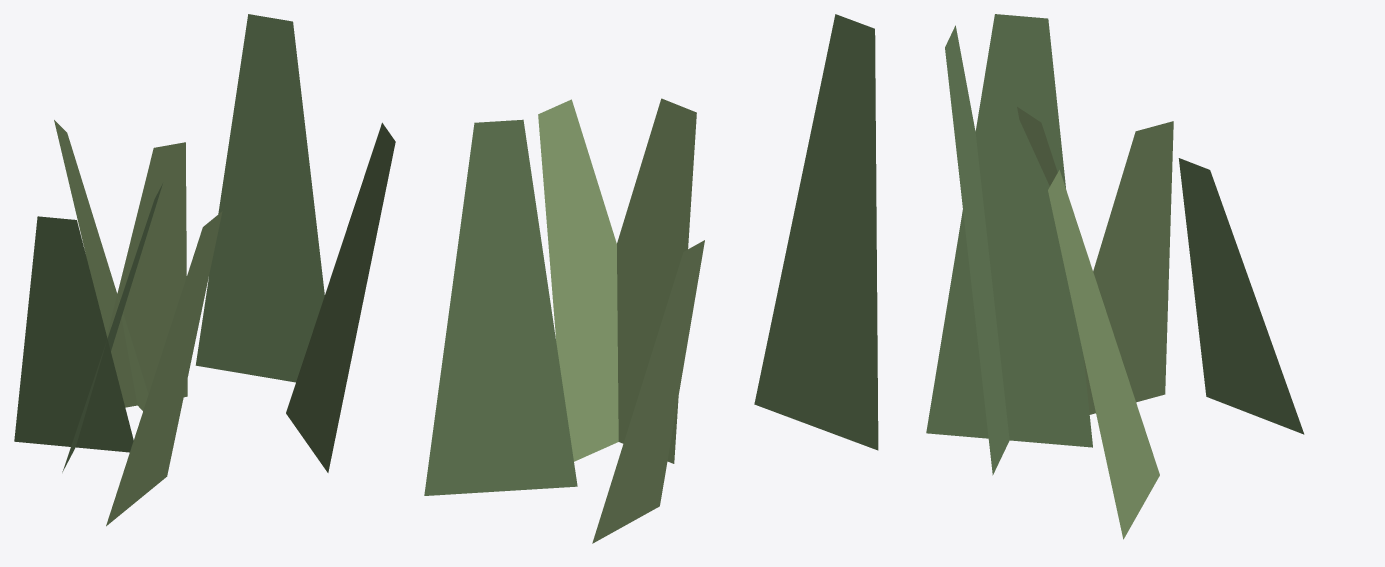
File: shrub.temp.fern__summer.glb
3 renders of one model, left to right at view 1: azimuth 30°, elevation 25°; view 2: azimuth 150°, elevation 25°; view 3: azimuth 270°, elevation 25°, orthographic. The views are drawn at different scales.
Visible parts, largest first — view 1: shrub.temp.fern__summer; view 2: shrub.temp.fern__summer; view 3: shrub.temp.fern__summer.
Part boxes in pixels (left/top/right/bottom): shrub.temp.fern__summer: left=14, top=14, right=395, bottom=526; shrub.temp.fern__summer: left=424, top=14, right=878, bottom=543; shrub.temp.fern__summer: left=926, top=14, right=1304, bottom=539.
Size of the model in its own units: 0.909 by 0.9974 by 1.01.
